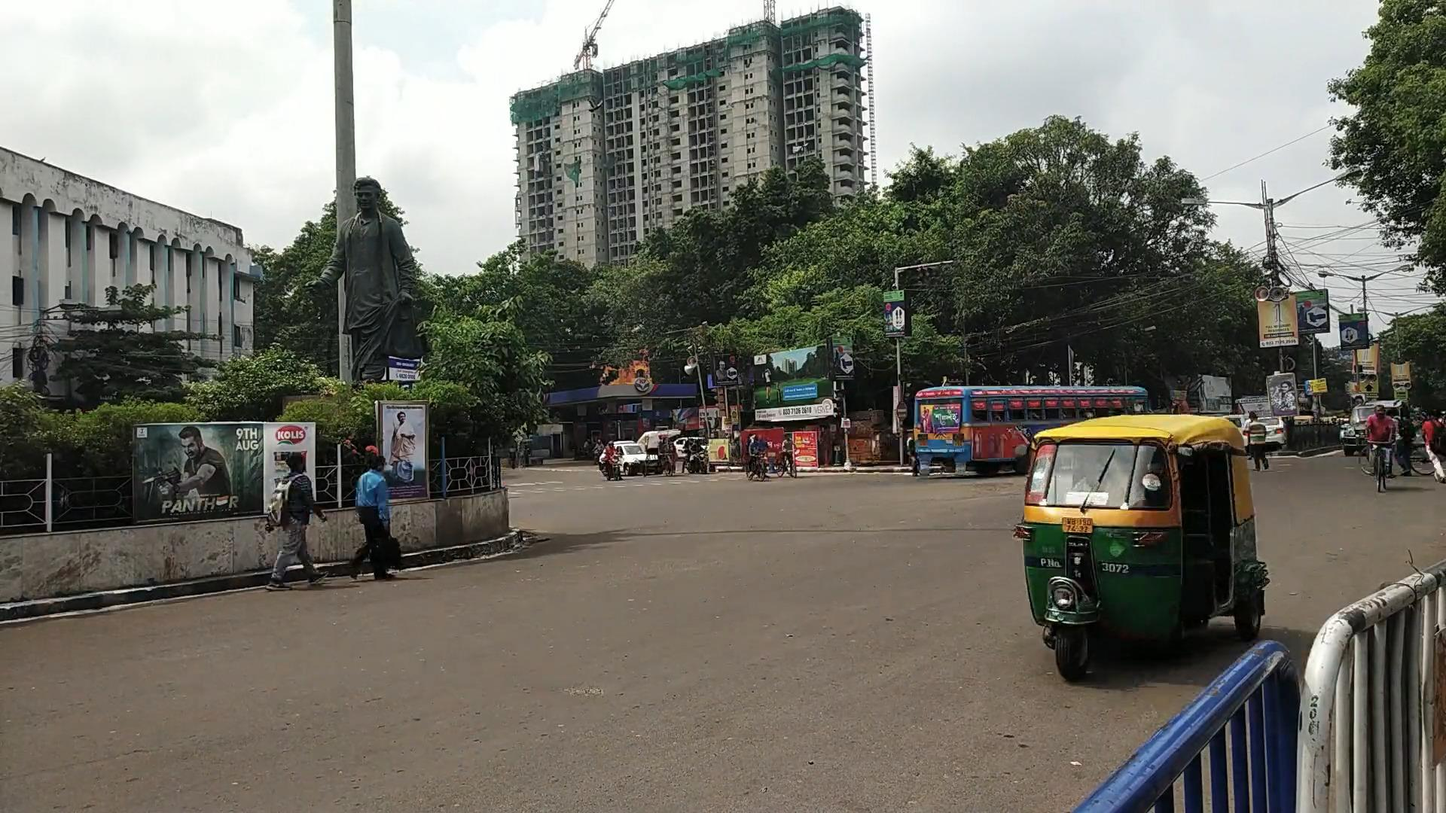bicyclist: (1365, 404, 1394, 492)
